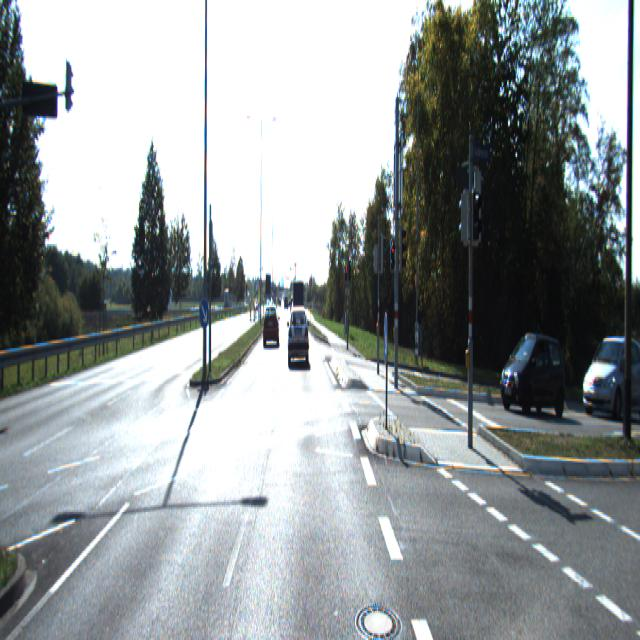Car: (500, 334, 567, 421), (582, 332, 639, 426), (288, 308, 308, 364), (263, 308, 280, 351), (292, 280, 305, 334)
